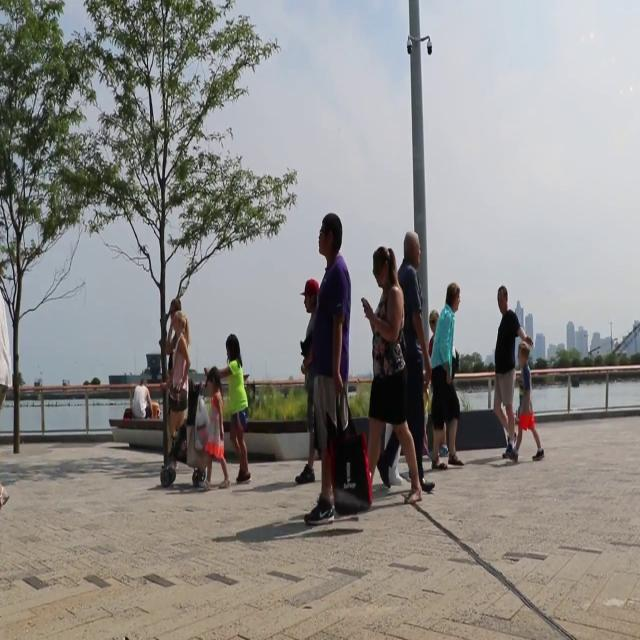normal: (361, 237, 425, 510), (305, 212, 359, 524), (489, 280, 523, 460), (221, 336, 259, 483)
